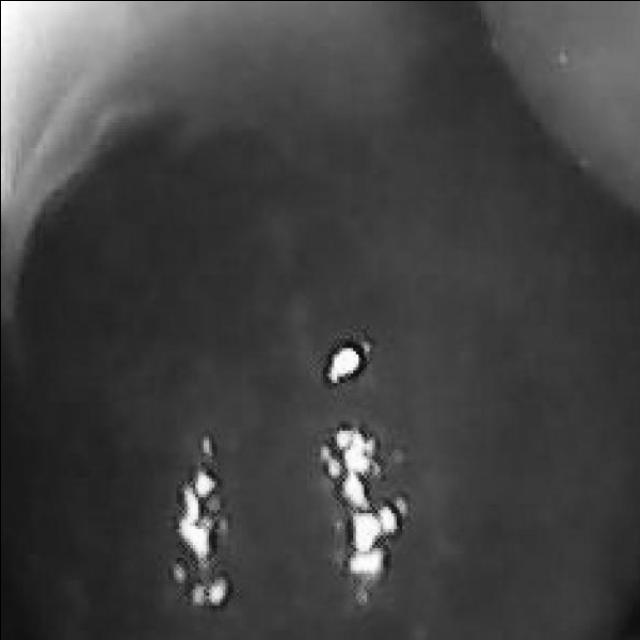Healthy: (0, 8, 640, 640)
